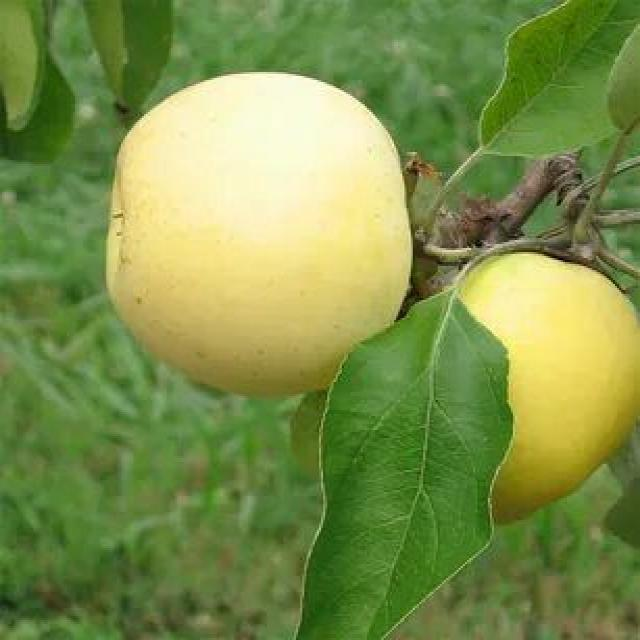Fresh Apple: (89, 81, 408, 396)
